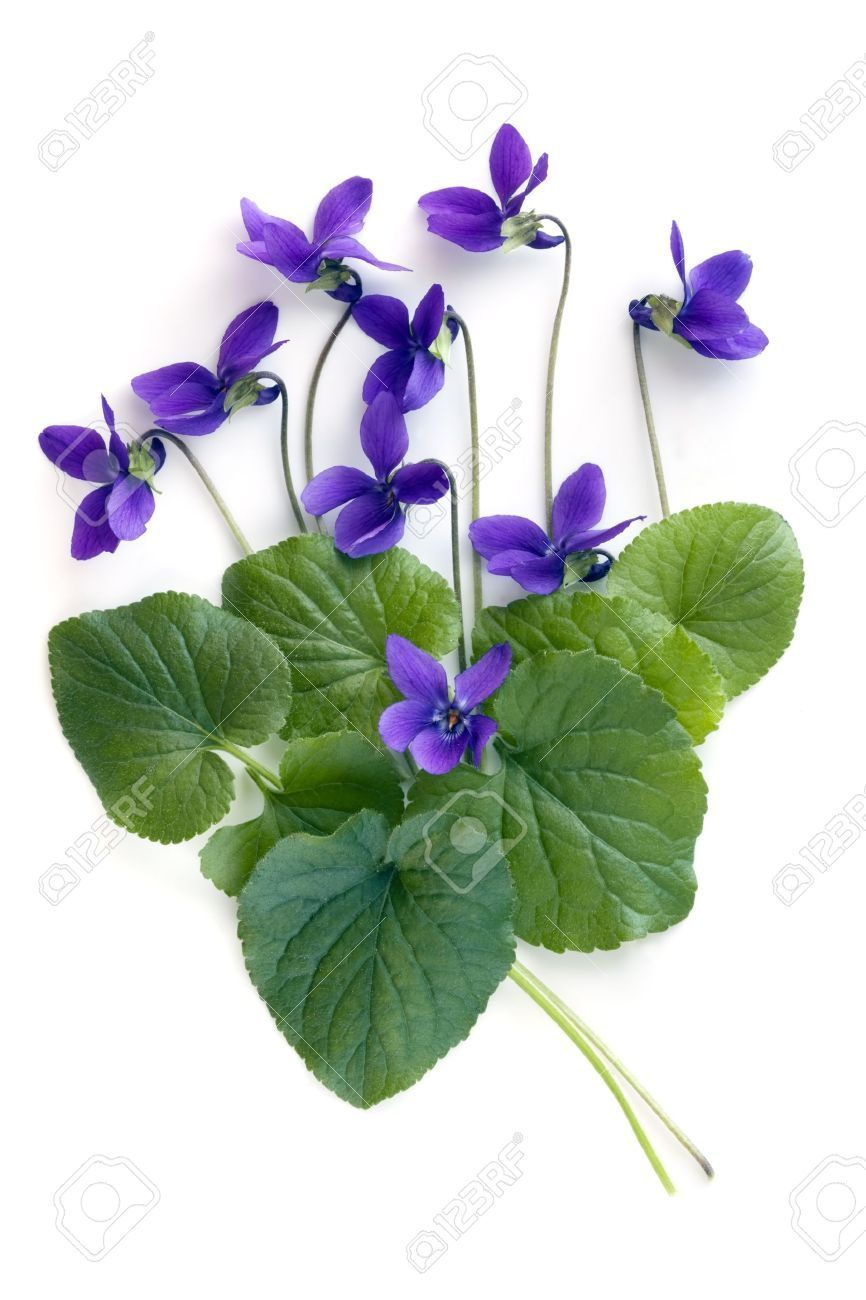violet: (610, 218, 804, 404), (353, 612, 532, 791), (461, 436, 631, 618), (48, 423, 171, 585), (416, 137, 559, 268), (139, 338, 286, 451), (312, 414, 419, 564), (248, 198, 353, 327)
